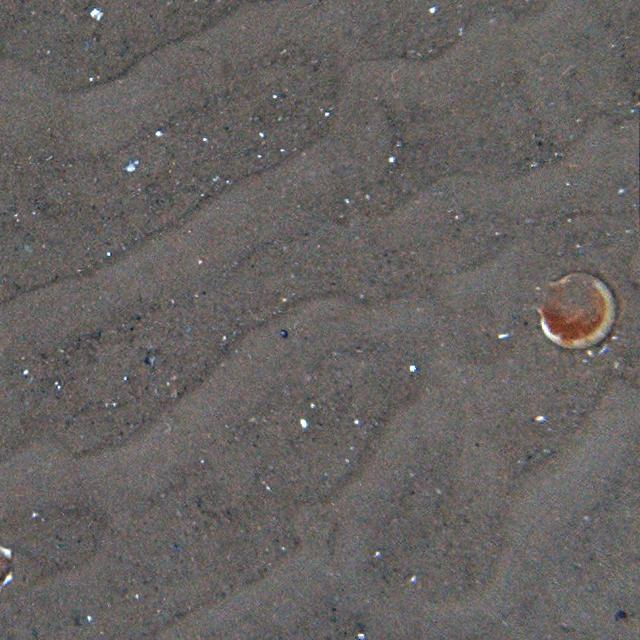scallop: (534, 266, 622, 355)
